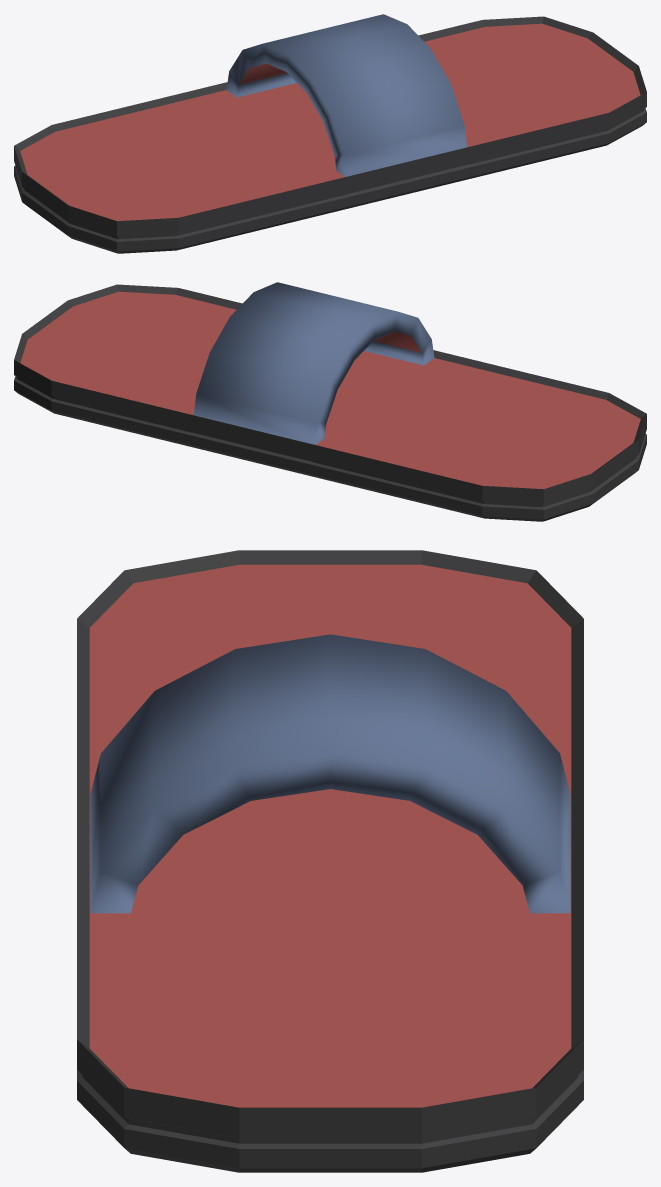
File: slipper.glb
3 renders of one model, top to bottom at view 1: azimuth 30°, elevation 25°; view 2: azimuth 150°, elevation 25°; view 3: azimuth 270°, elevation 25°, orthographic. The views are drawn at different scales.
Parts seen in each view (by area): view 1: slipper; view 2: slipper; view 3: slipper.
Boxes of the visible parts, x1,y1,x2,y2 form: slipper: [14, 14, 646, 253]; slipper: [14, 282, 646, 521]; slipper: [77, 550, 583, 1172].
Bounding box in the file's own units: 0.26 × 0.048 × 0.1.
